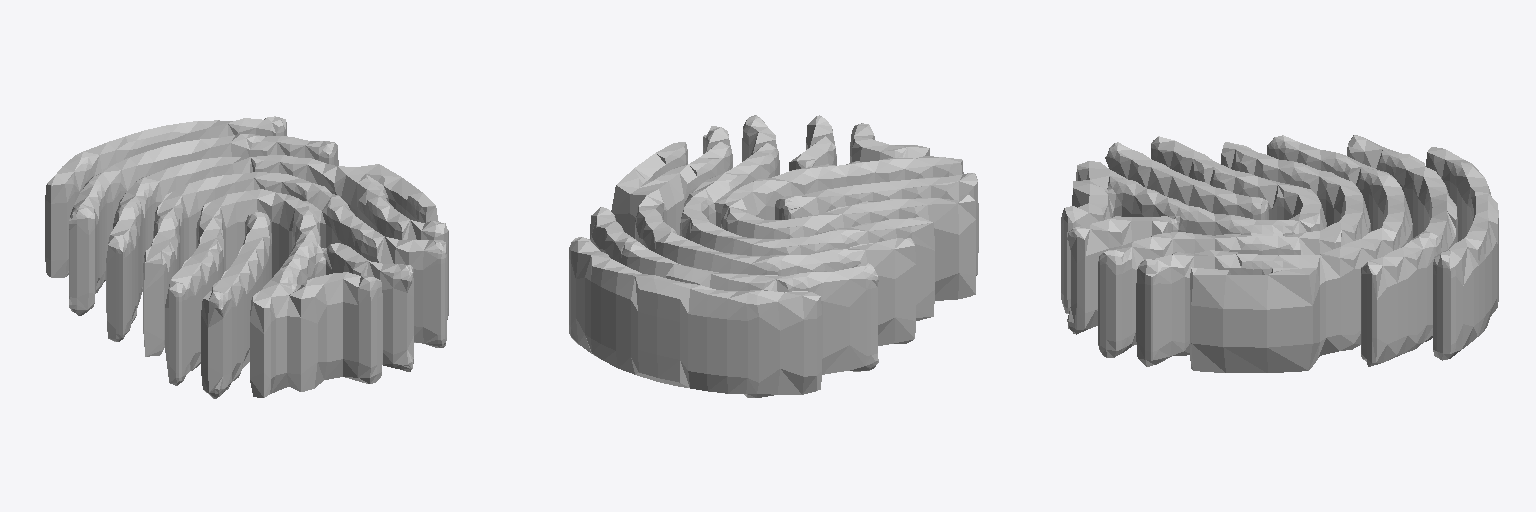
Rendered from Fingerprint.obj.
3 views of the same model, side by side, from view 1: azimuth 30°, elevation 25°; view 2: azimuth 150°, elevation 25°; view 3: azimuth 270°, elevation 25° (orthographic).
Parts seen in each view (by area): view 1: Fingerprint; view 2: Fingerprint; view 3: Fingerprint.
Boxes of the visible parts, <box> form: Fingerprint: <box>45,116,448,398</box>; Fingerprint: <box>569,115,978,397</box>; Fingerprint: <box>1061,135,1498,372</box>.
Bounding box in the file's own units: 0.0516 × 0.0177 × 0.0658.